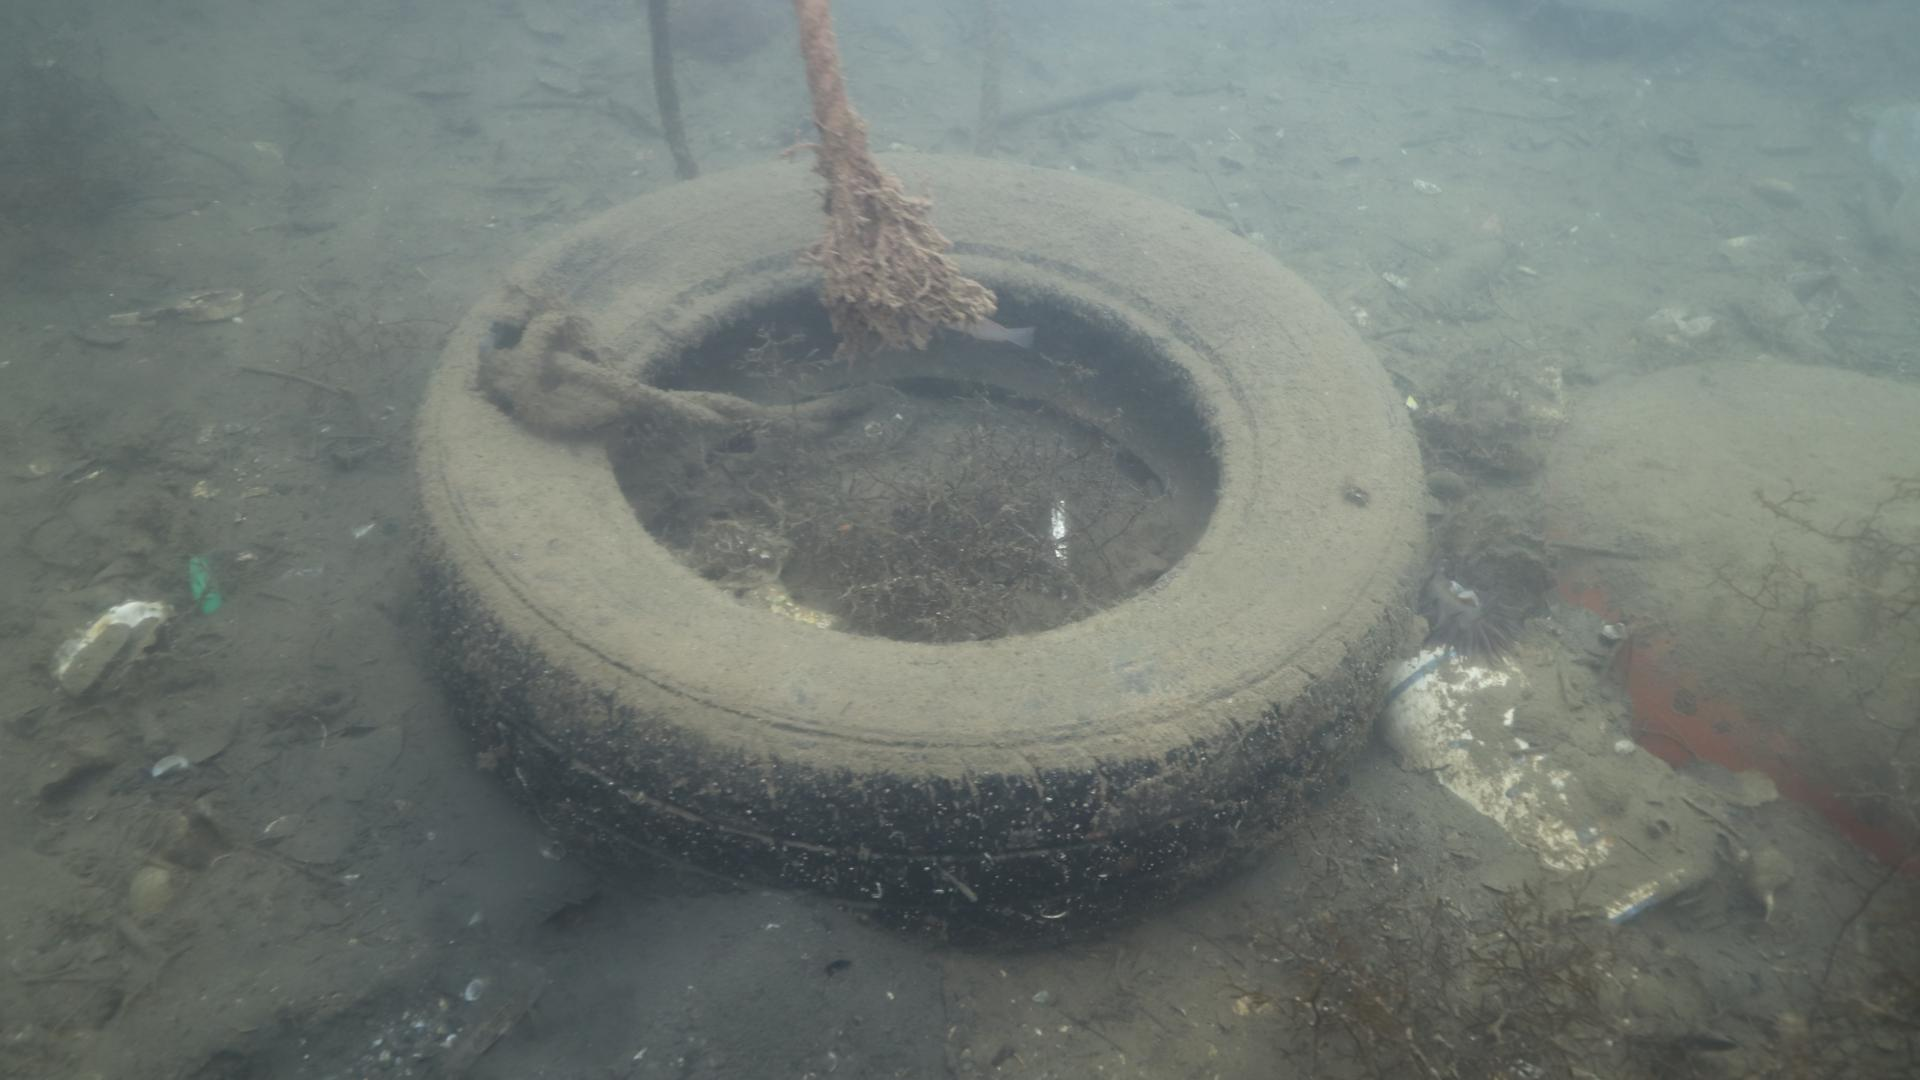bundle of ropes: (473, 293, 852, 435)
rope: (793, 5, 884, 166)
tire: (411, 148, 1432, 932)
